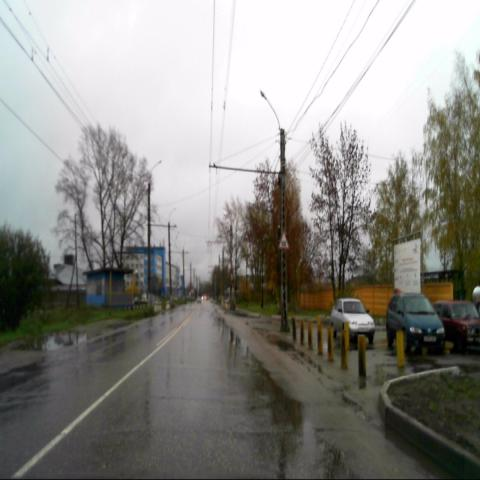1_1: (278, 231, 290, 251)
